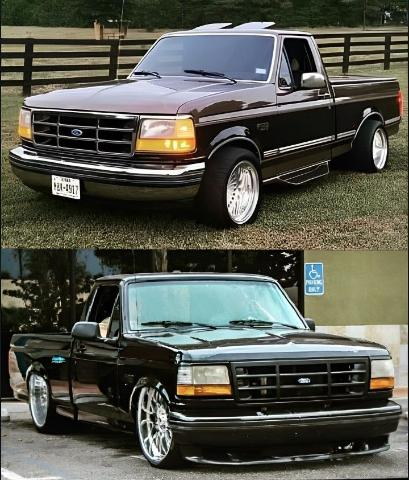pickup-truck: (4, 262, 406, 473), (7, 21, 404, 228)
